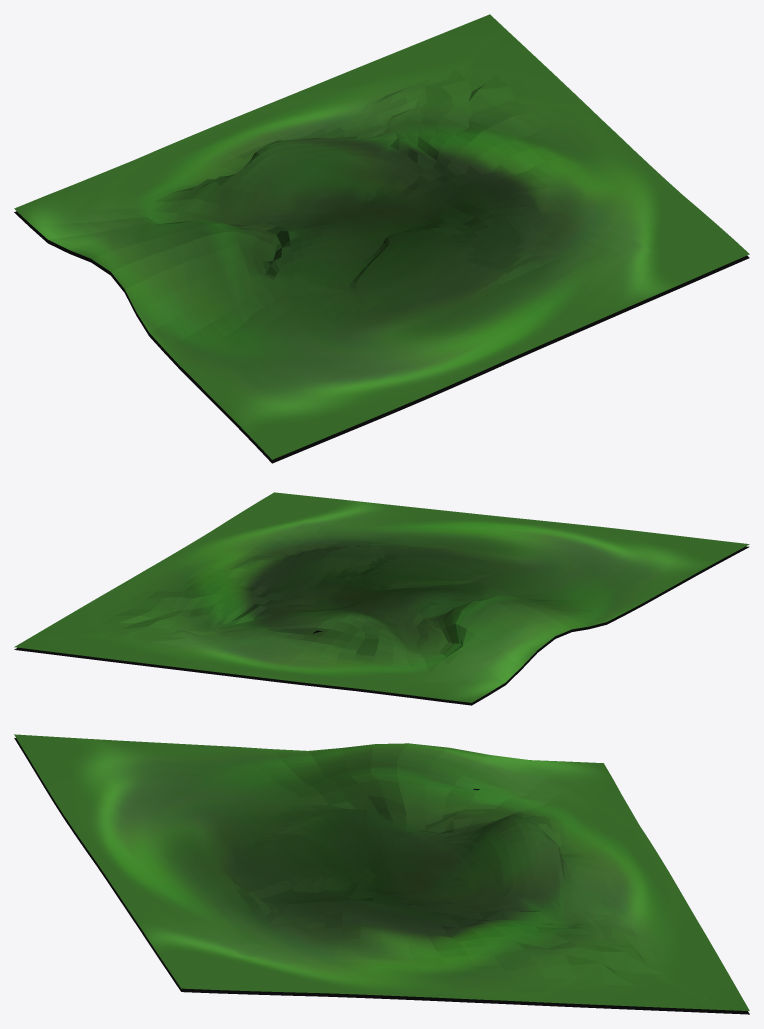
The model's file is tebaidaQuindio.glb.
3 renders of one model, top to bottom at view 1: azimuth 30°, elevation 25°; view 2: azimuth 150°, elevation 25°; view 3: azimuth 270°, elevation 25°, orthographic. The views are drawn at different scales.
Visible parts, largest first — view 1: collision, collisionBase; view 2: collision, collisionBase; view 3: collision, collisionBase.
Part boxes in pixels (<box>): collision: <box>14,14,749,459</box>; collisionBase: <box>14,211,749,463</box>; collision: <box>14,492,749,702</box>; collisionBase: <box>14,546,749,705</box>; collision: <box>14,734,749,1010</box>; collisionBase: <box>14,738,749,1014</box>.
Size of the model in its own units: 68.88 by 4.51 by 77.39.
2 materials, 2 textured.
